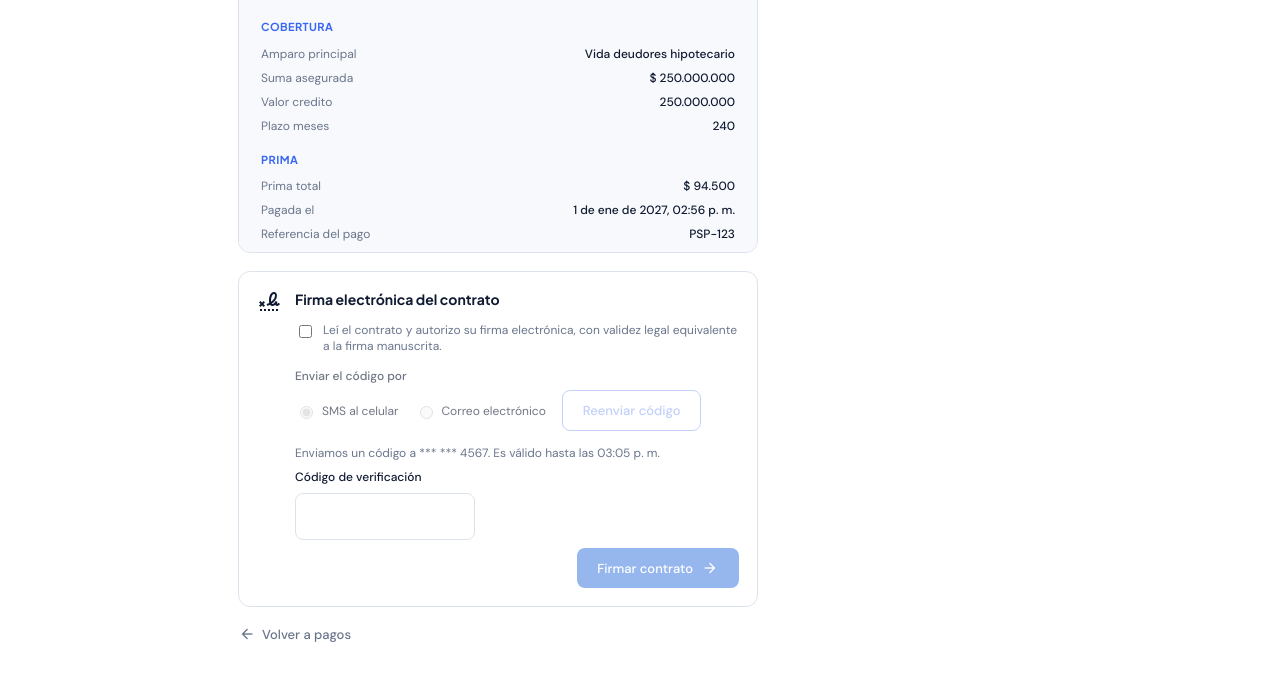
Test: firma con el código y la huella del contrato revisado
The width and height of the screenshot is (1280, 691).
(page scrolled)
Expected: the button "Firmar contrato" is disabled, [577,548,739,588]
In the field labelled "Código de verificación": x=385, y=516 [295,493,475,540], type "12a3456"
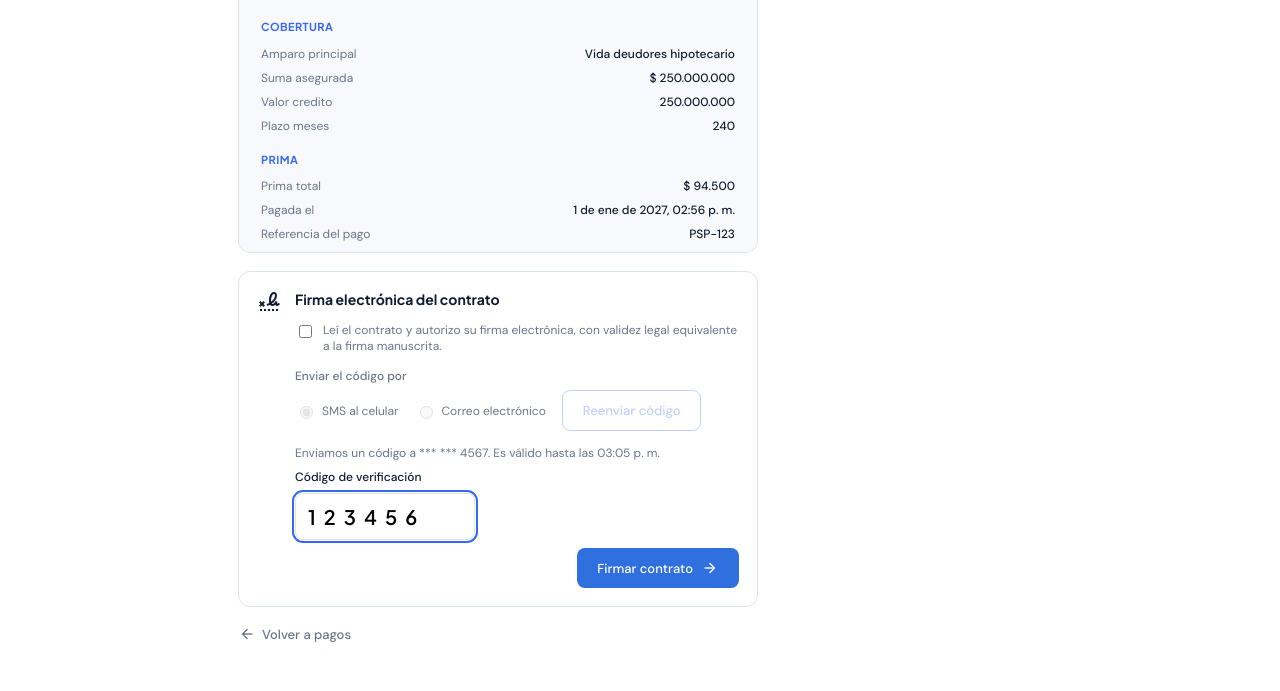
Click the button "Firmar contrato": x=658, y=568 [577,548,739,588]
(page scrolled)
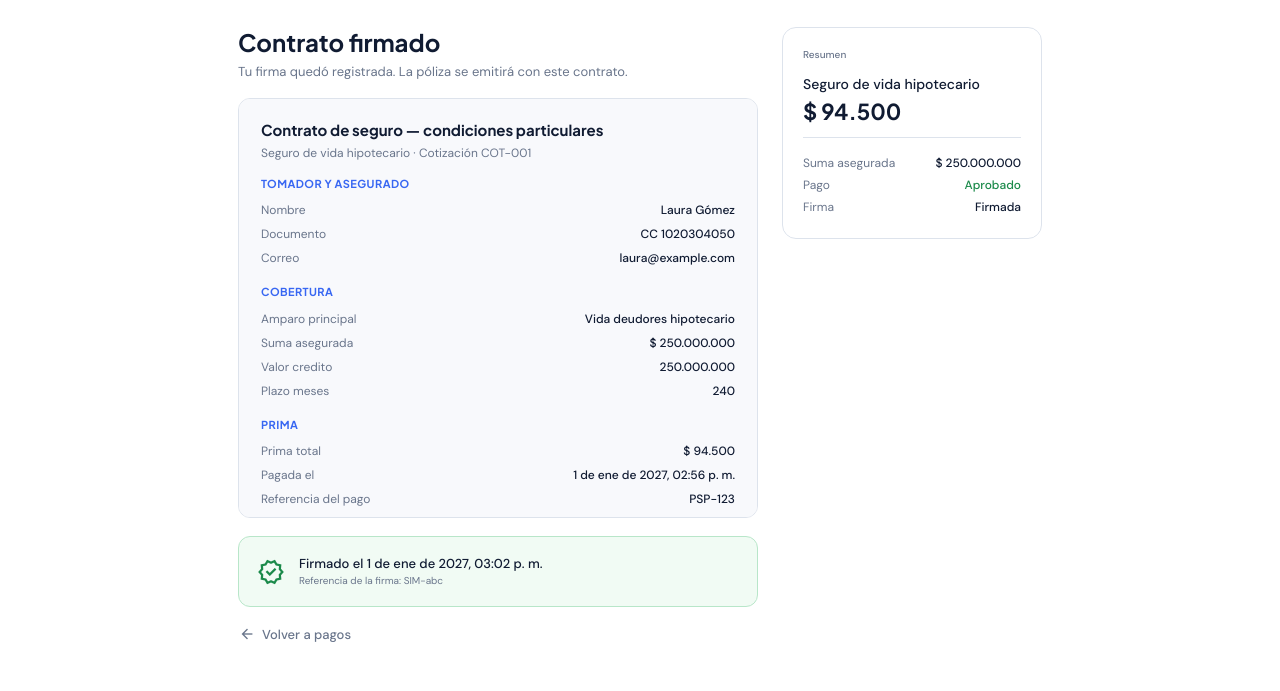
Result: the heading "Contrato firmado" is shown at [238,27,440,57]
Result: the text "Referencia de la firma: SIM-abc" is shown at [299,574,443,587]
